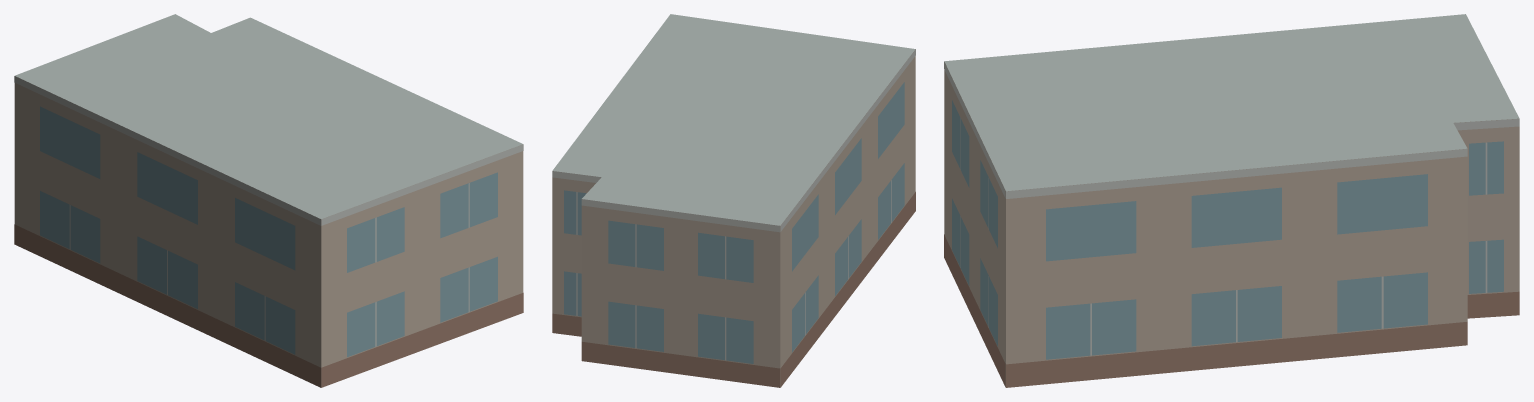
Rendered from survey-upis-32976801.glb.
The picture shows the model from 3 angles, left to right: view 1: azimuth 30°, elevation 25°; view 2: azimuth 150°, elevation 25°; view 3: azimuth 270°, elevation 25°; orthographic projection. The views are drawn at different scales.
Visible parts, largest first — view 1: survey-upis-32976801.tmp; view 2: survey-upis-32976801.tmp; view 3: survey-upis-32976801.tmp.
Part boxes in pixels (x1,y1,x2,y2): survey-upis-32976801.tmp: (14, 14, 523, 387); survey-upis-32976801.tmp: (552, 14, 915, 387); survey-upis-32976801.tmp: (944, 14, 1519, 387).
Size of the model in its own units: 11.81 by 6.1 by 16.19.
